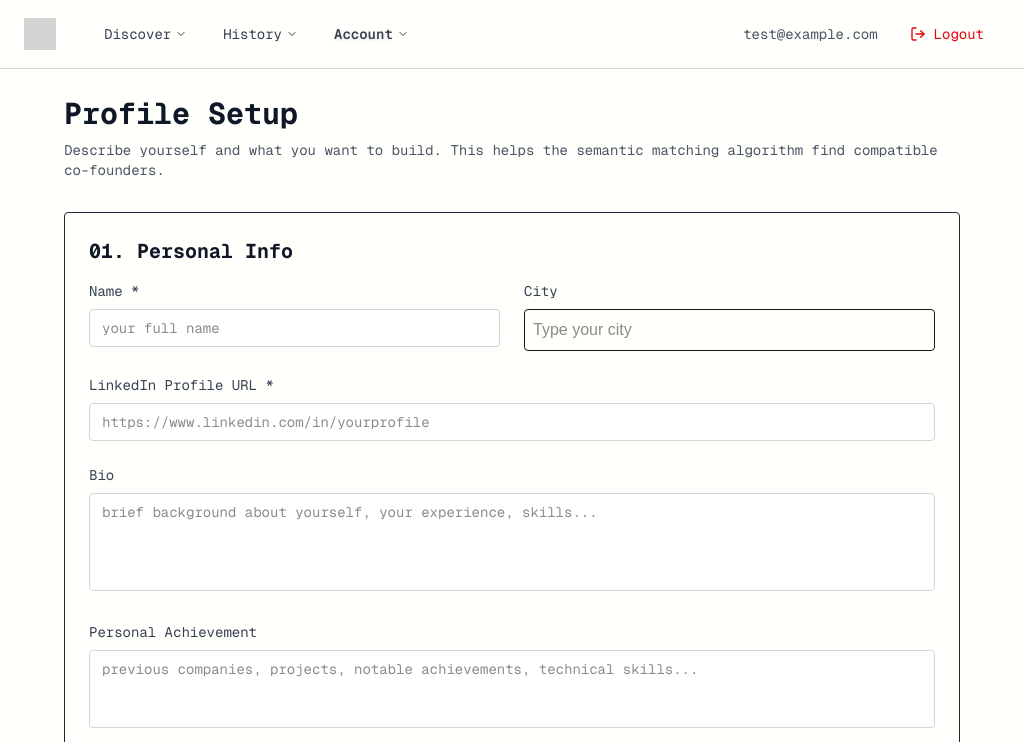
ProfilePage Integration Tests › should publish profile and generate embeddings
# Fill in required fields
Type "Jane Smith" into the field with placeholder "your full name" at x=294, y=328, box [89,309,500,347]
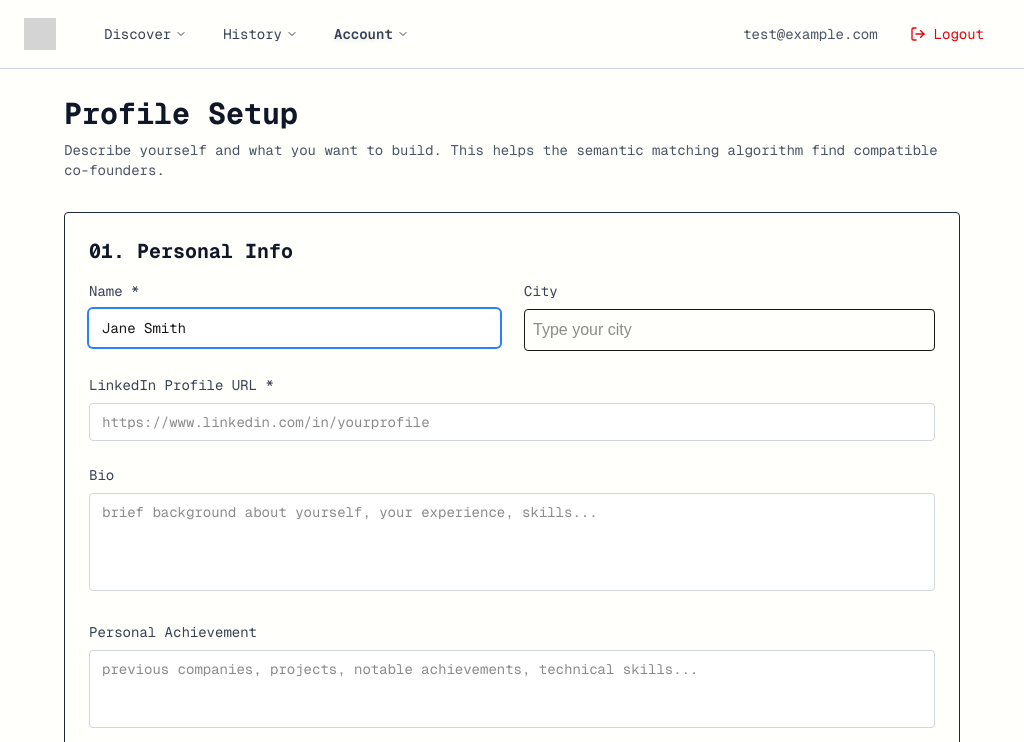
Type "https://www.linkedin.com/in/janesmith" into the field with placeholder "https://www.linkedin.com/in/yourprofile" at x=512, y=422, box [89,403,935,441]
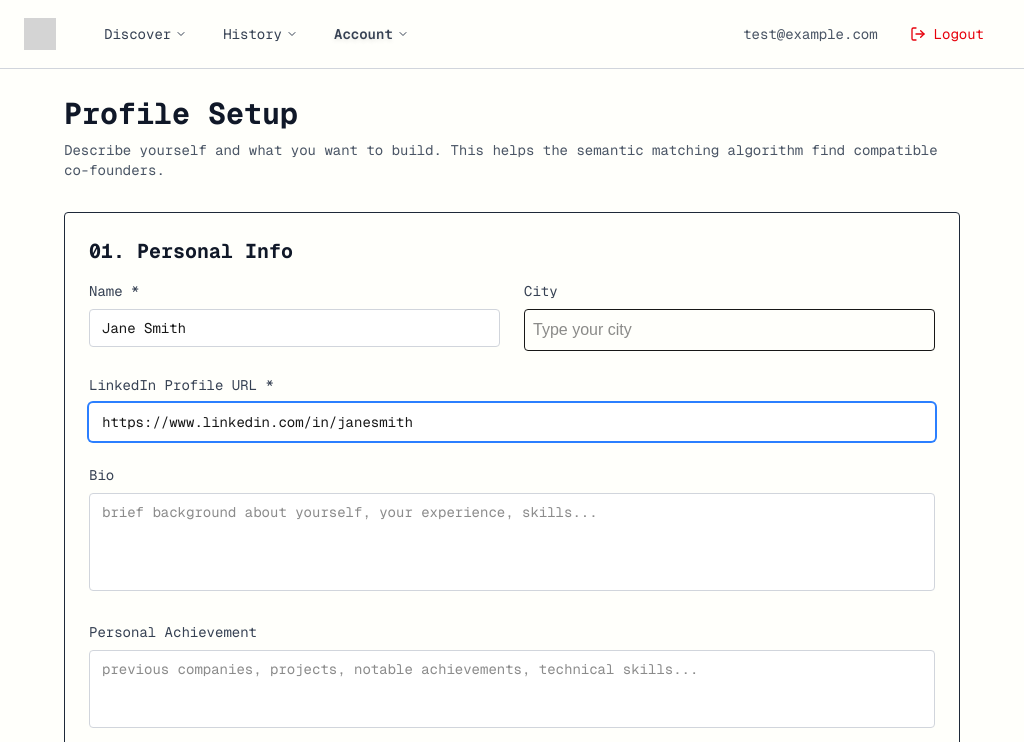
# City is now a CityPicker component, not a text input
Type "Experienced product manager" into the text box with placeholder "brief background about yourself, your experience, skills..." at x=512, y=542, box [89,493,935,591]
(page scrolled)
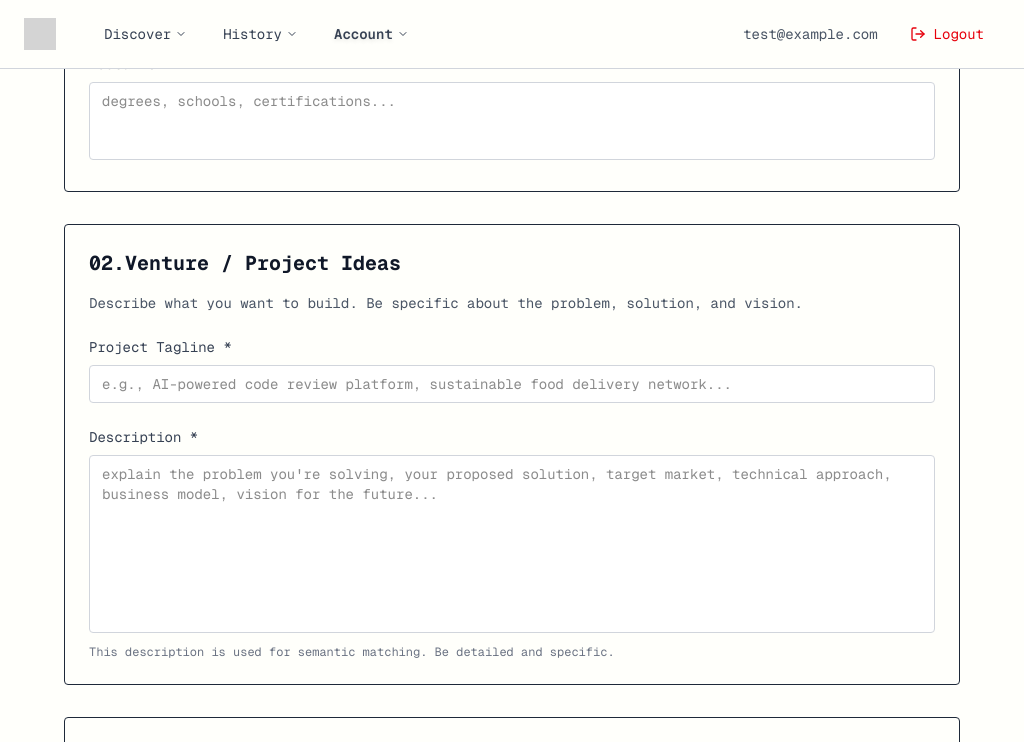
Type "DevTools Pro" into the field with placeholder "AI-powered code review platform" at x=512, y=384, box [89,365,935,403]
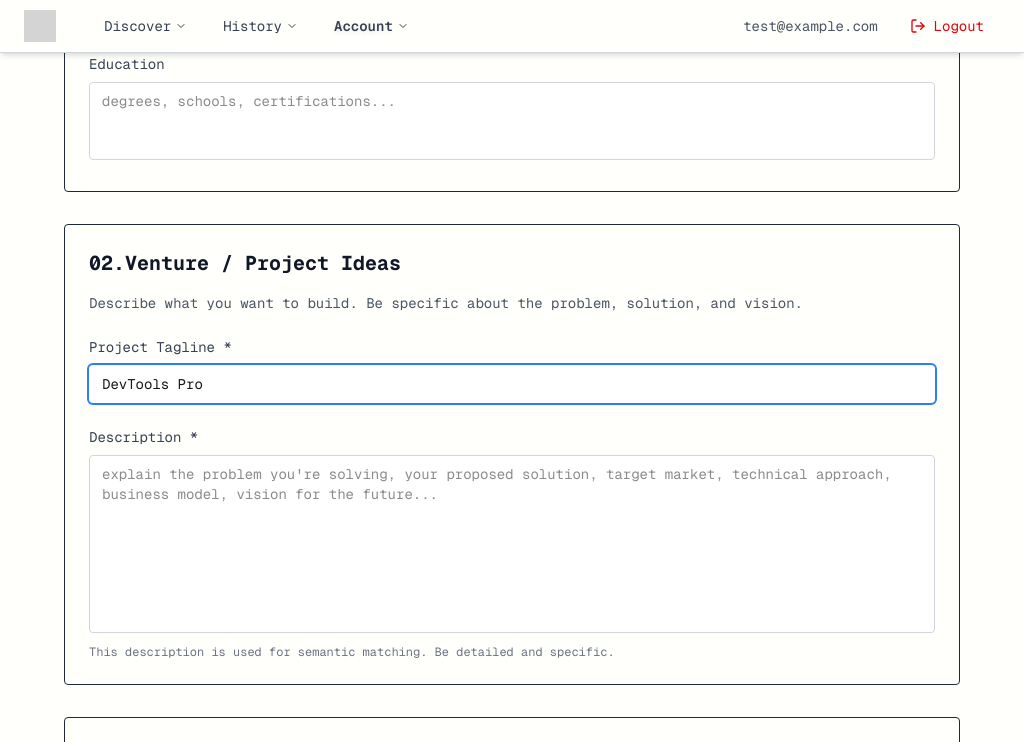
Type "A comprehensive development toolkit for modern teams" into the text box with placeholder "explain the problem you're solving" at x=512, y=544, box [89,455,935,633]
(page scrolled)
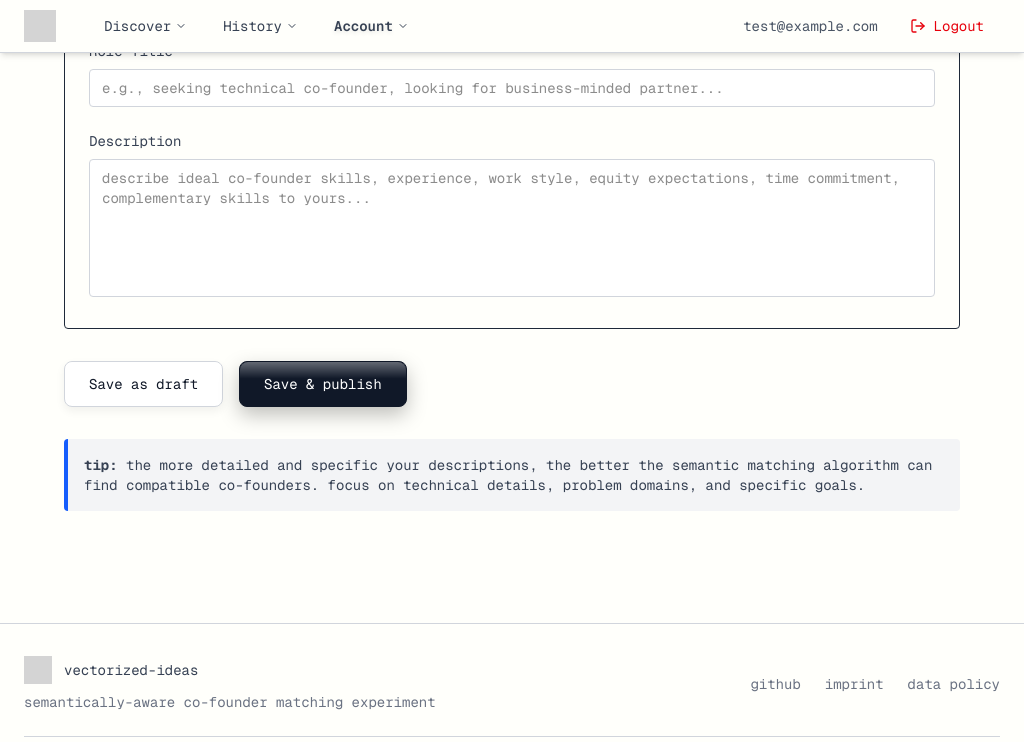
Click the button "Save & publish" at x=323, y=384, box [239,361,407,407]
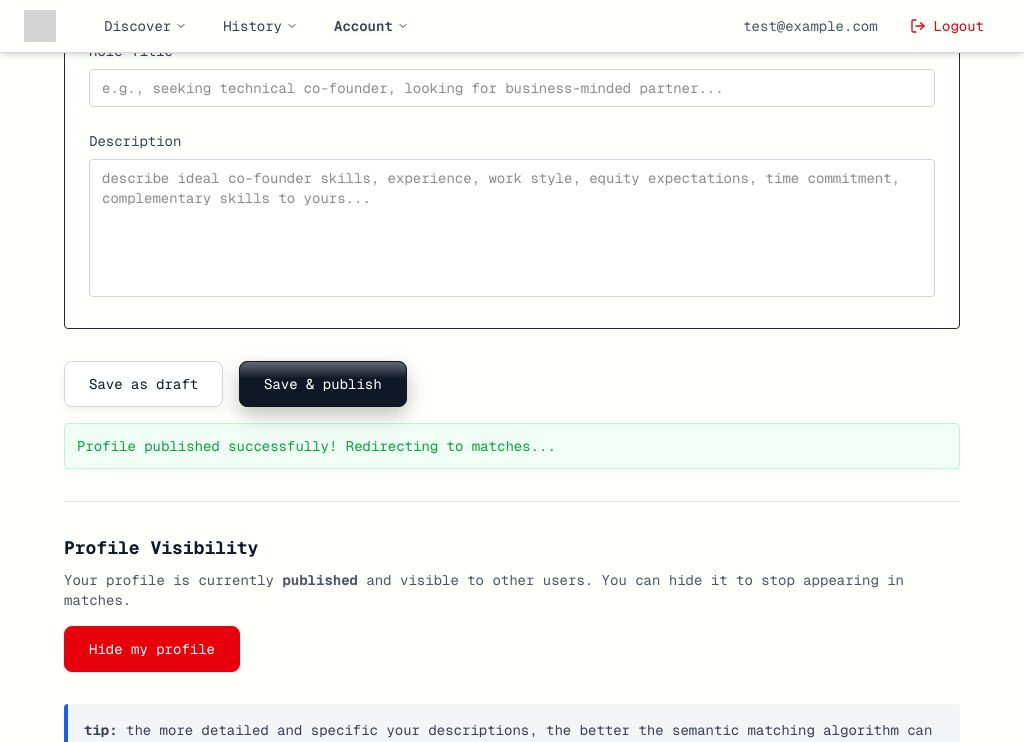
Expected: the text "Profile published successfully! Redirecting to matches..." is shown, [64,423,960,469]
